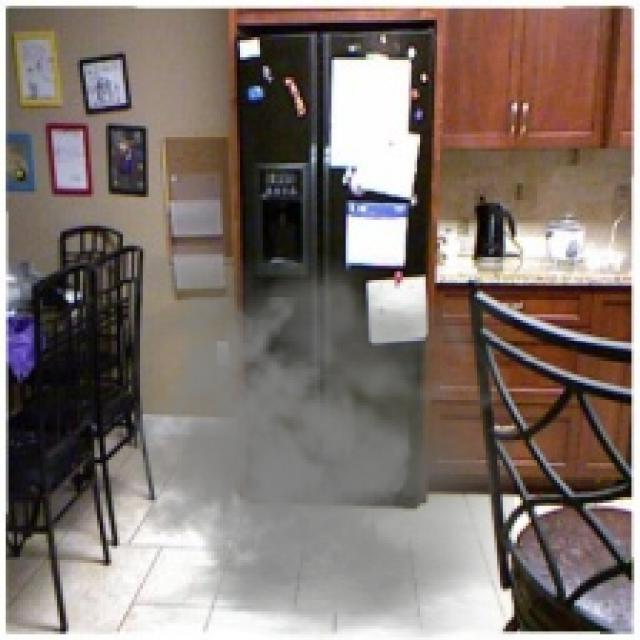smoke: (120, 254, 517, 637)
